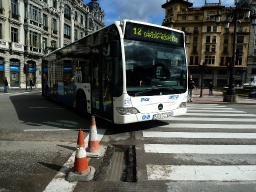bus: (42, 18, 191, 126)
obstacle: (66, 126, 96, 185), (86, 115, 101, 161)
